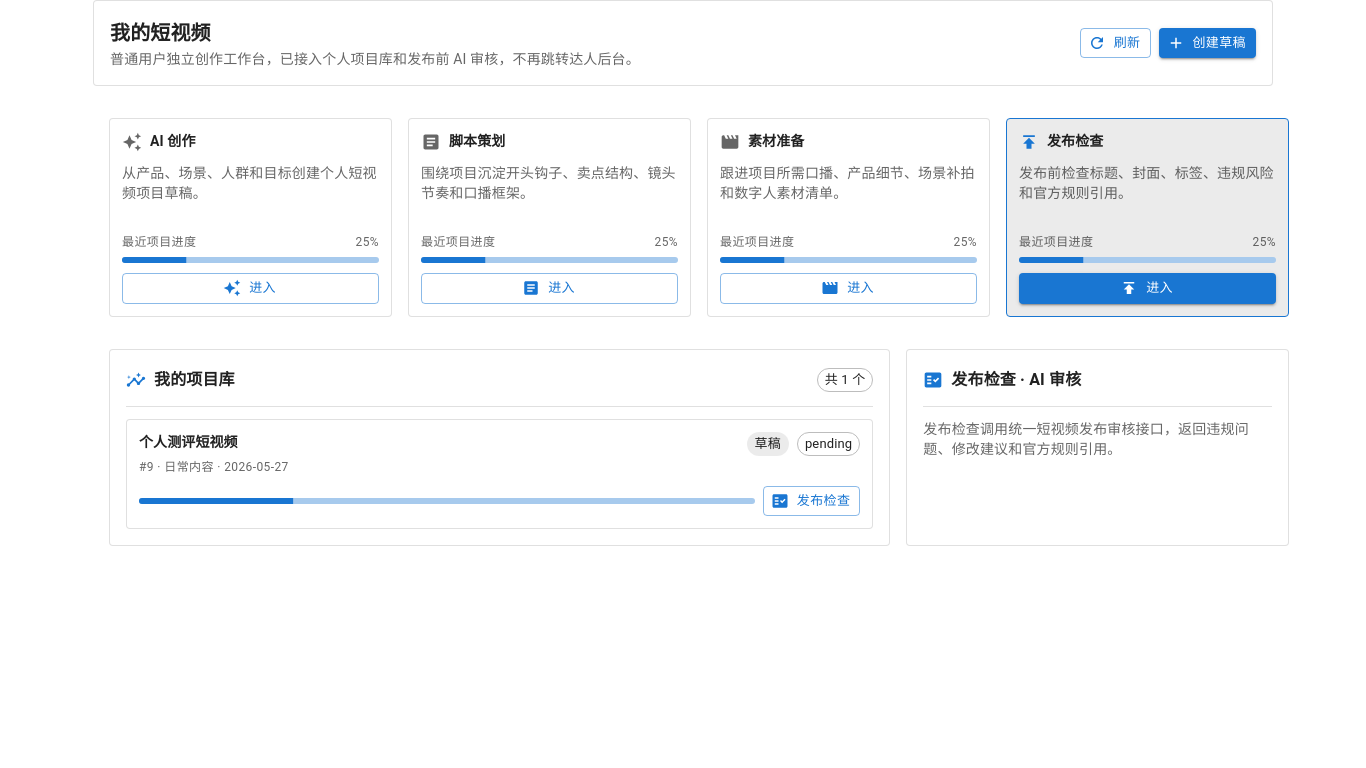
Test: UserShortvideoPage › runs publish review and renders official rule references
Expected: the text "个人测评短视频" is shown, [139, 434, 238, 450]
Click the button "发布检查".
click(812, 501)  # box [763, 486, 860, 516]
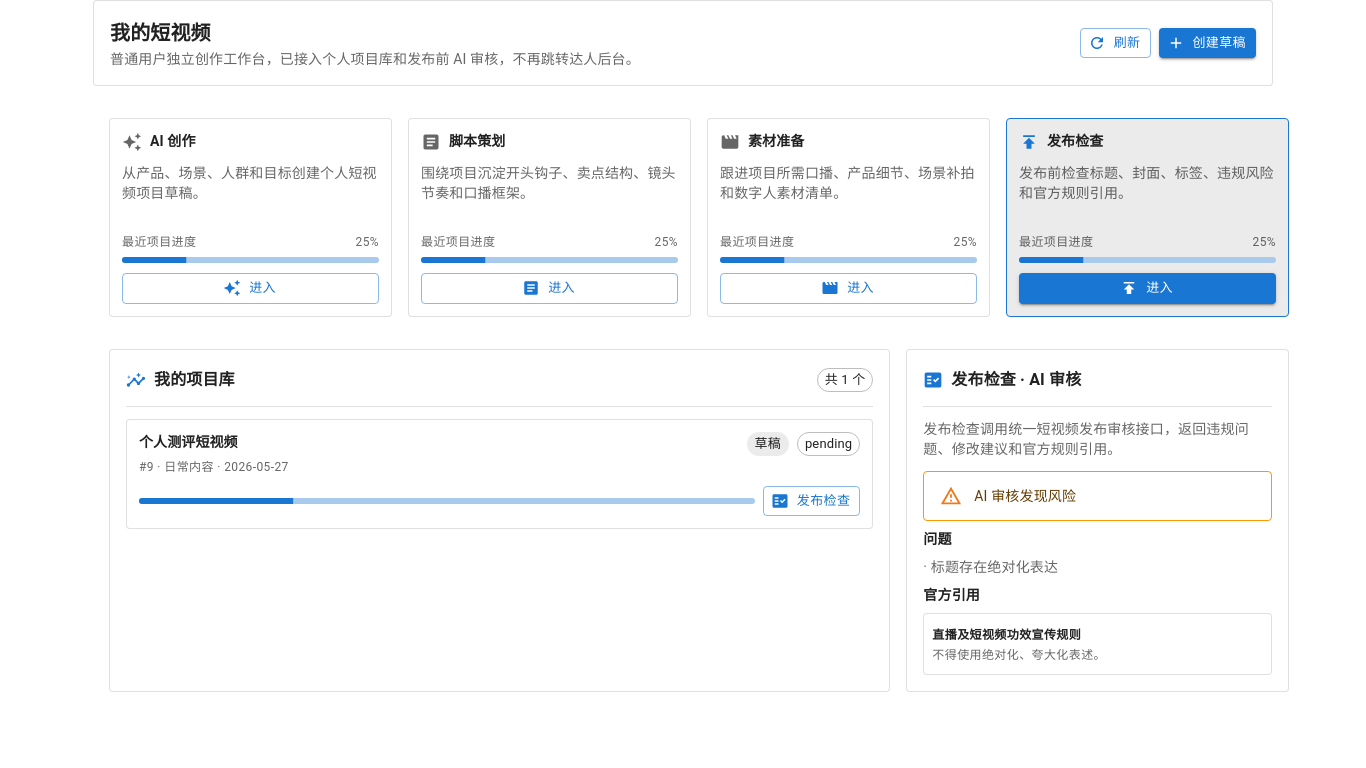
Now the element with test id "user-shortvideo-review-result" is shown, box [923, 471, 1272, 675]
Now the text "· 标题存在绝对化表达" is shown, box [923, 559, 1058, 575]
Now the text "直播及短视频功效宣传规则" is shown, box [932, 628, 1081, 642]
